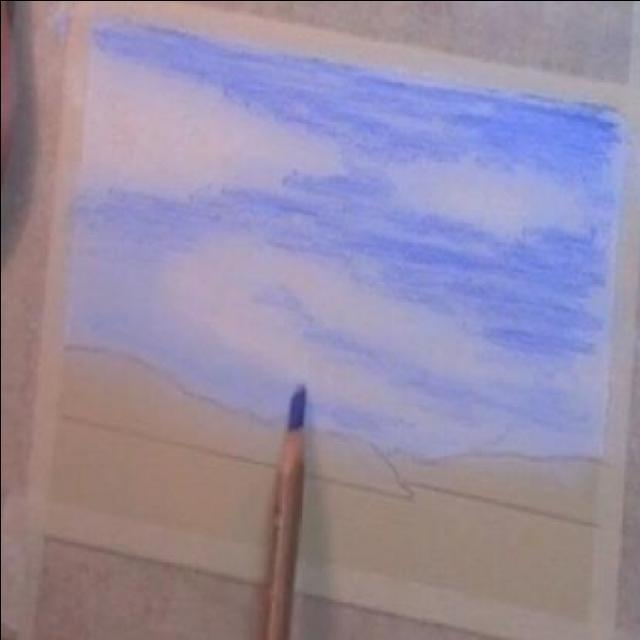Pencil: (266, 368, 312, 512)
